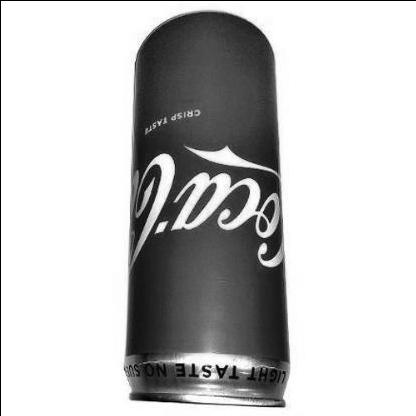alumunium_can: (122, 8, 290, 410)
